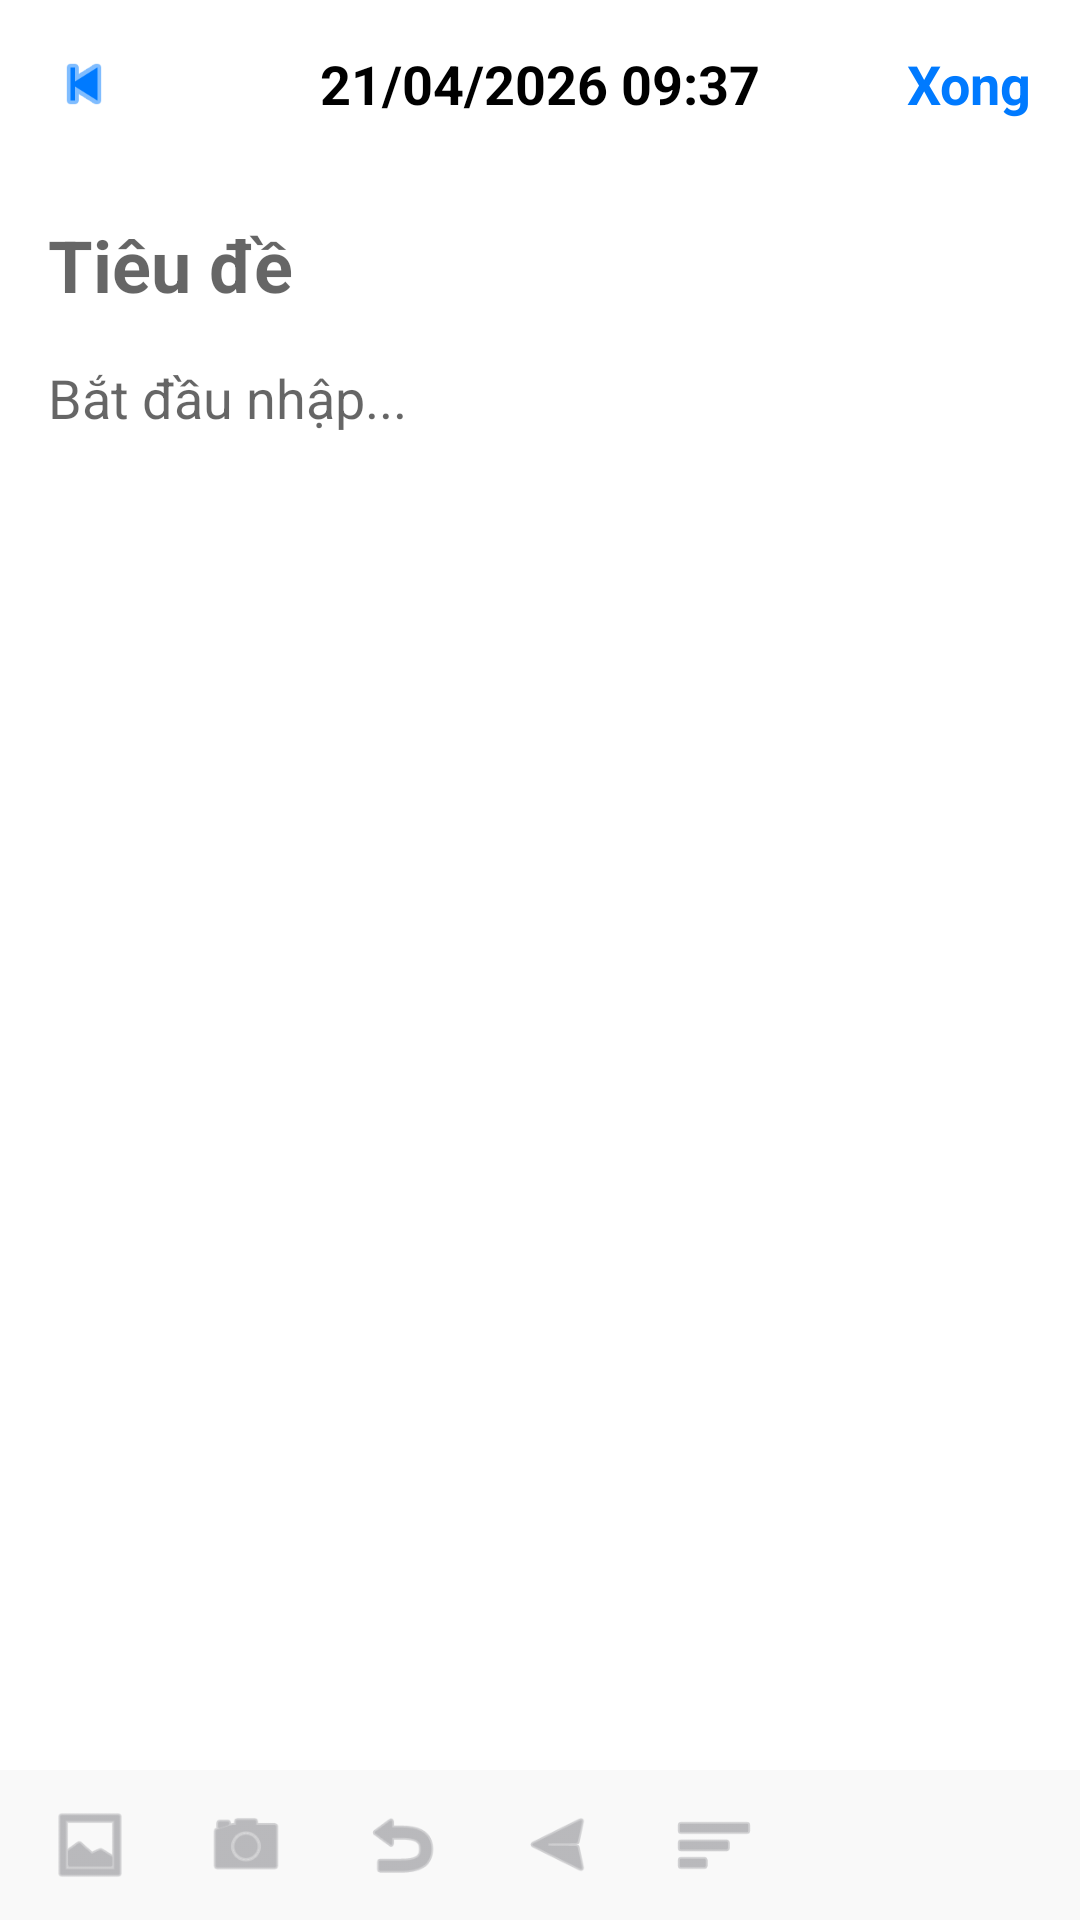

Icon bounding boxes for this 1080 x 1920 phone screenshot, format detection(x1, y1, x2, y2):
camera: detection(214, 1818, 278, 1869)
gallery: detection(59, 1814, 121, 1876)
previous: detection(67, 64, 101, 104)
revert: detection(373, 1819, 433, 1873)
sort by size: detection(678, 1822, 750, 1869)
